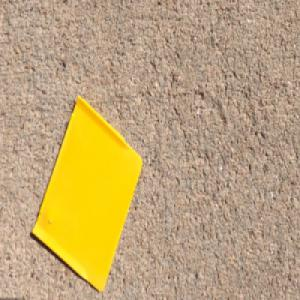PlasticPart: (30, 92, 143, 293)
